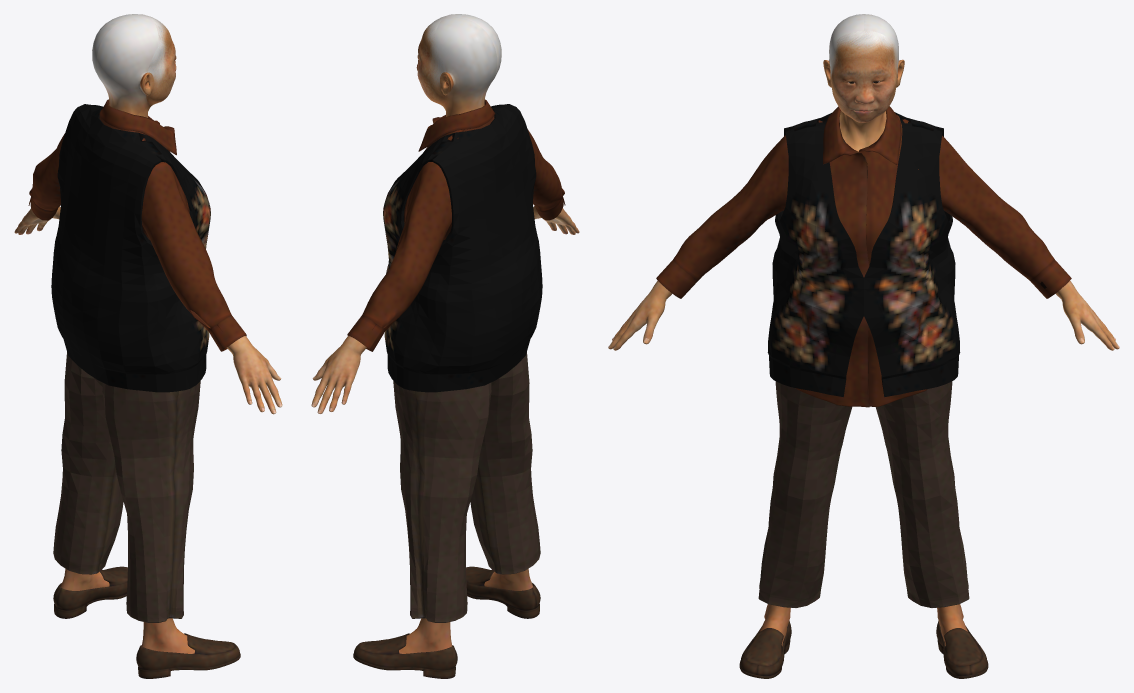
Rendered from sm_linainai.fbx.
3 renders of one model, left to right at view 1: azimuth 30°, elevation 25°; view 2: azimuth 150°, elevation 25°; view 3: azimuth 270°, elevation 25°, orthographic. The views are drawn at different scales.
Parts seen in each view (by area): view 1: sm_linainai; view 2: sm_linainai; view 3: sm_linainai.
Part boxes in pixels (x1,y1,x2,y2): sm_linainai: (14, 14, 282, 678); sm_linainai: (311, 14, 579, 678); sm_linainai: (608, 14, 1119, 678).
Size of the model in its own units: 0.3501 by 1.64 by 1.19.
1 material, 1 textured.
